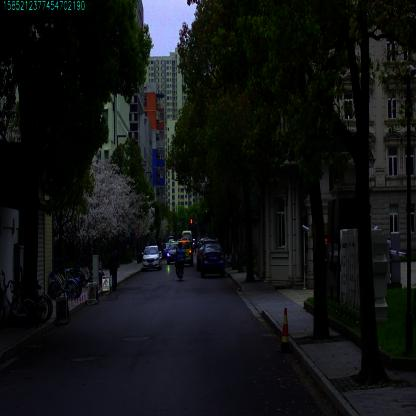traffic-light: (190, 218, 192, 224)
